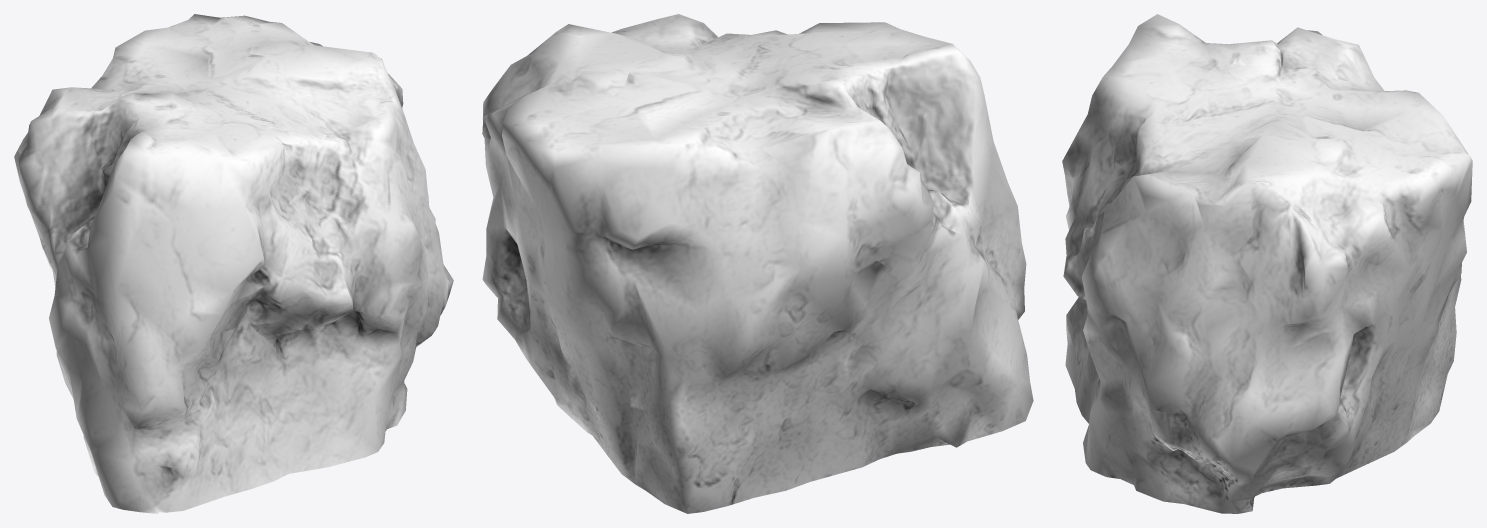
The model's file is Rock001_LOD1.fbx.
3 renders of one model, left to right at view 1: azimuth 30°, elevation 25°; view 2: azimuth 150°, elevation 25°; view 3: azimuth 270°, elevation 25°, orthographic. The views are drawn at different scales.
Parts seen in each view (by area): view 1: Rock001; view 2: Rock001; view 3: Rock001.
Part boxes in pixels (<box>): Rock001: <box>14,14,453,513</box>; Rock001: <box>482,14,1033,513</box>; Rock001: <box>1062,14,1472,513</box>.
Bounding box in the file's own units: 4.26 × 3.4 × 3.66.
